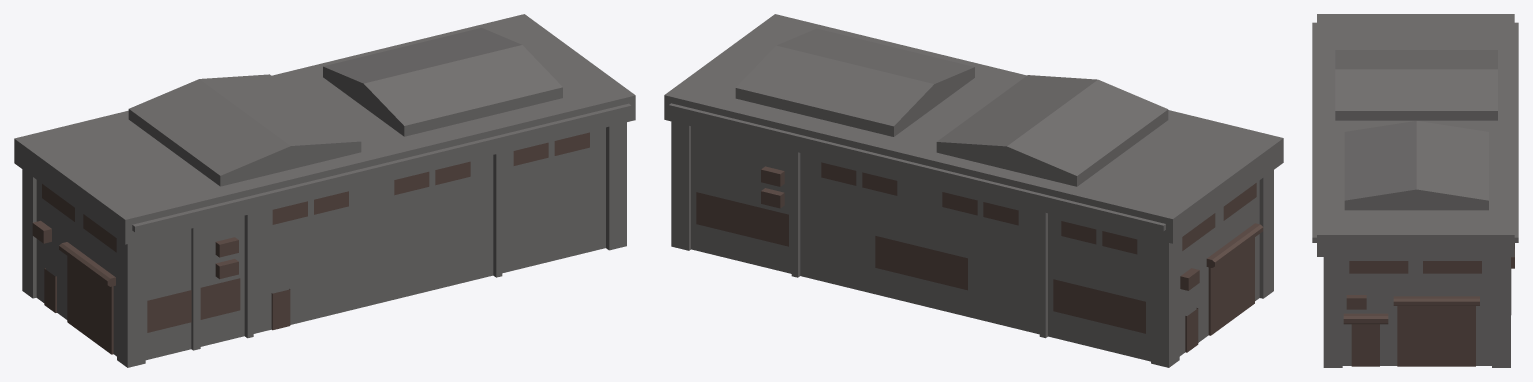
The model's file is ind-warehouse-1.lod2.glb.
3 renders of one model, left to right at view 1: azimuth 30°, elevation 25°; view 2: azimuth 150°, elevation 25°; view 3: azimuth 270°, elevation 25°, orthographic. The views are drawn at different scales.
Parts seen in each view (by area): view 1: Industrial_Warehouse_1_Industrial_Walls_FLR_1_0; view 2: Industrial_Warehouse_1_Industrial_Walls_FLR_1_0; view 3: Industrial_Warehouse_1_Industrial_Walls_FLR_1_0.
Part boxes in pixels (x1,y1,x2,y2): Industrial_Warehouse_1_Industrial_Walls_FLR_1_0: (14,14,635,367); Industrial_Warehouse_1_Industrial_Walls_FLR_1_0: (664,14,1283,367); Industrial_Warehouse_1_Industrial_Walls_FLR_1_0: (1312,14,1518,367).
Bounding box in the file's own units: 33.83 × 11.12 × 13.36.
